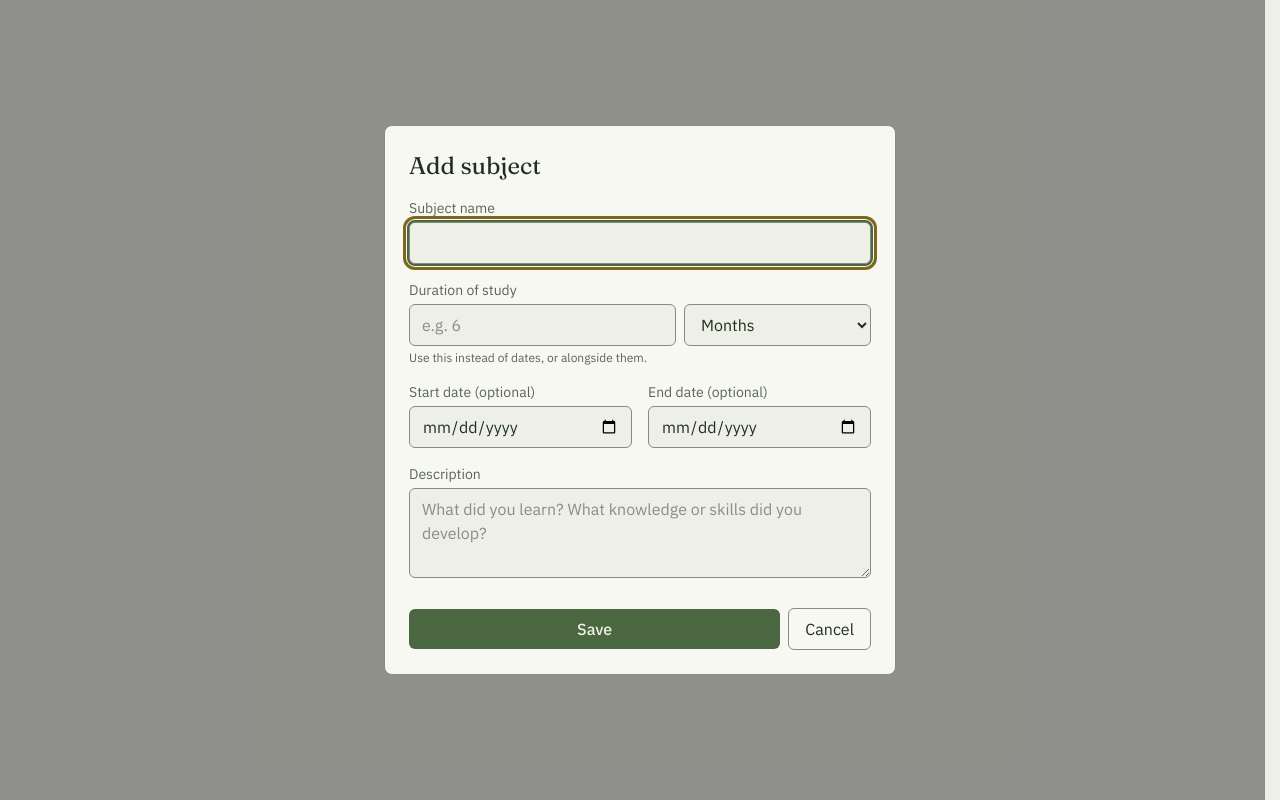
Test: ExperienceModal subject timing › requires either a start date or a study duration for a subject
Type "Physics" into the field labelled "Subject name".
click(640, 243); type("Physics")  # box [409,222,871,264]
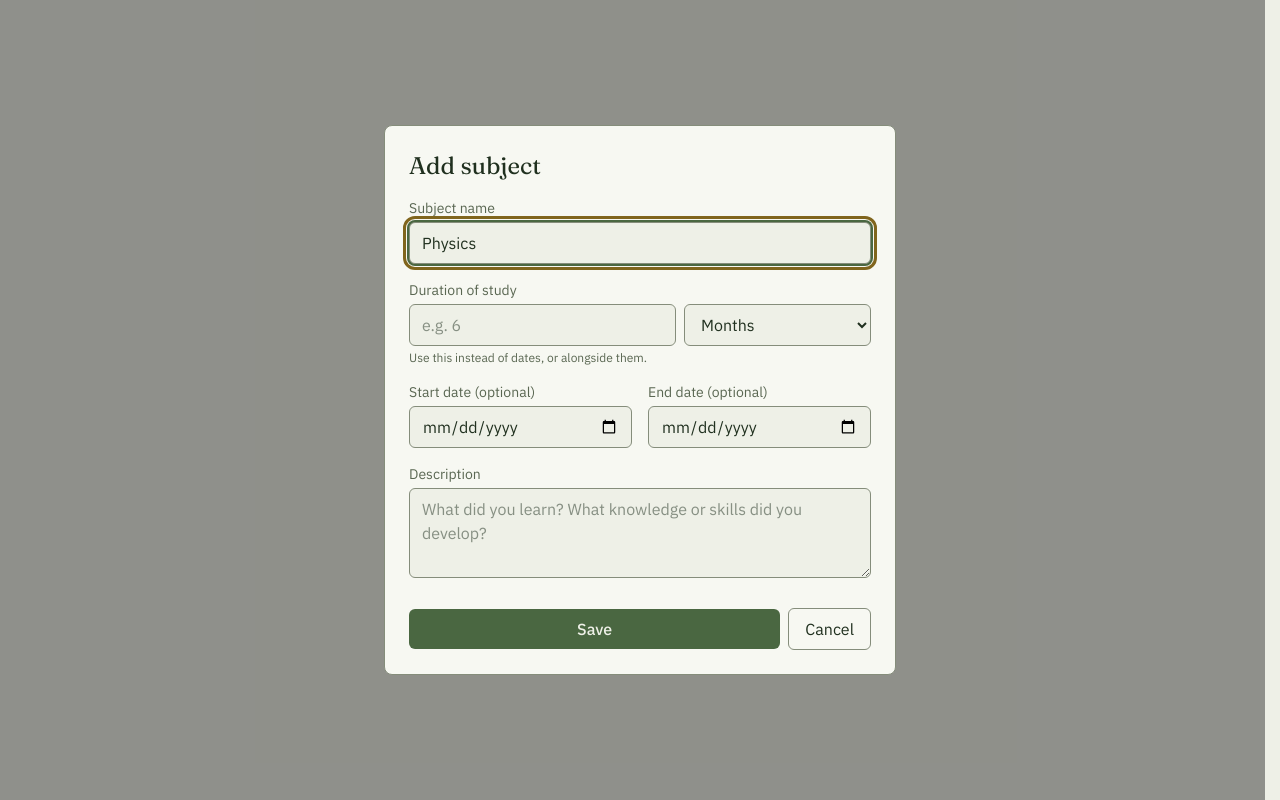
Click the button "Save".
click(595, 629)  # box [409,609,780,649]
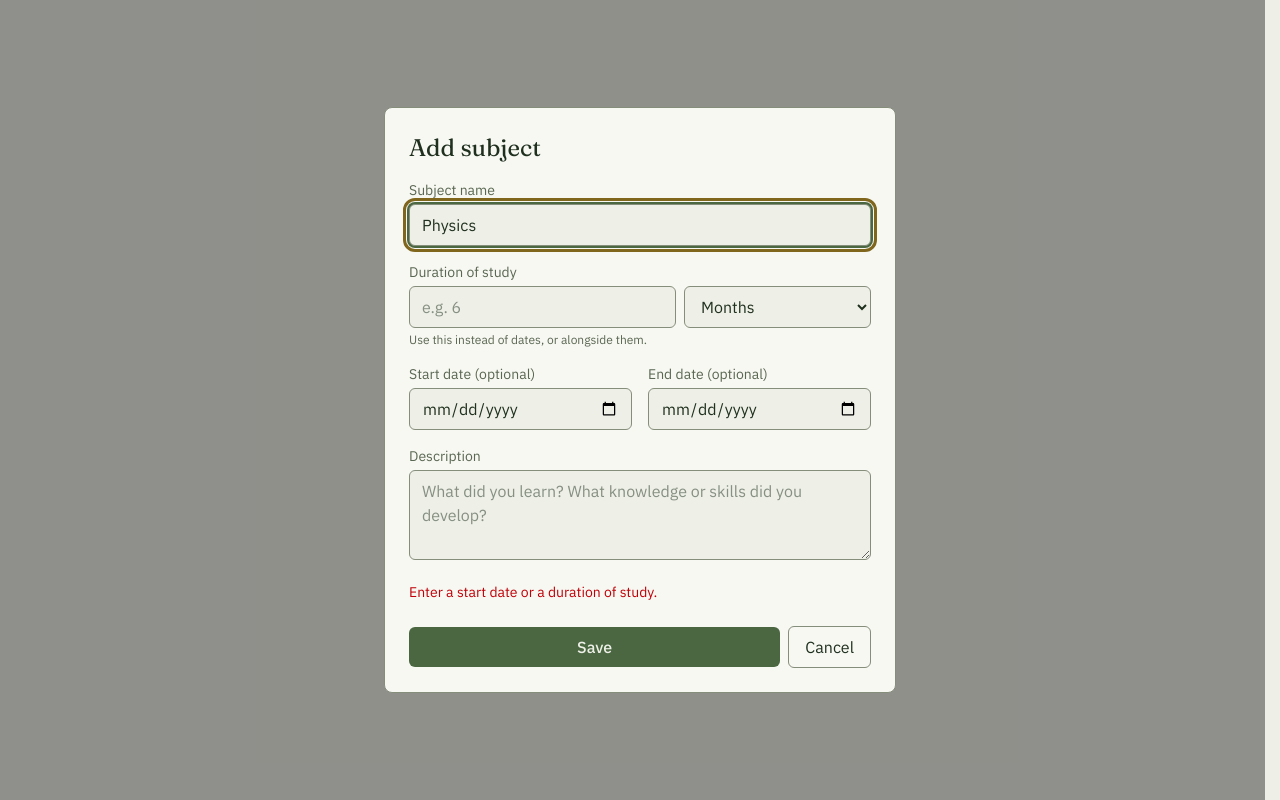
Expected: the message reads "Enter a start date or a duration of study.", [409,583,657,601]
